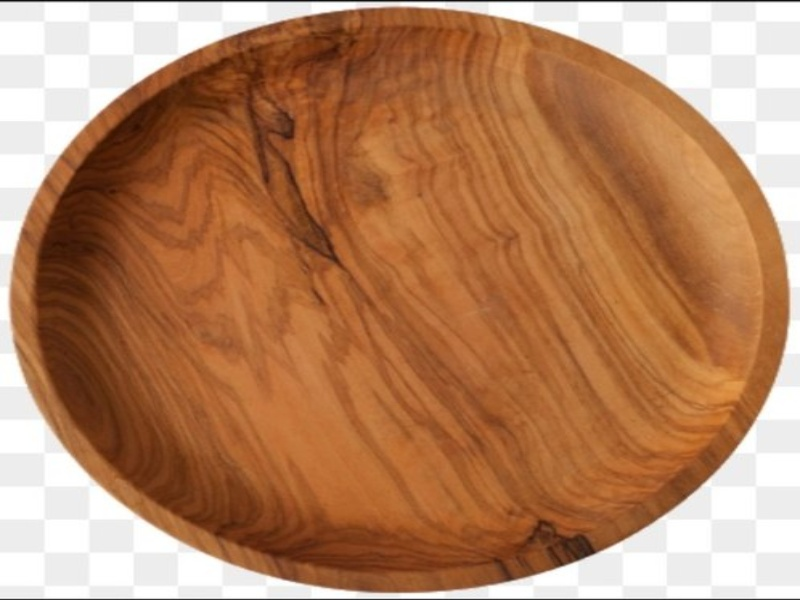Woodel_plate_Reuse: (2, 4, 794, 595)
